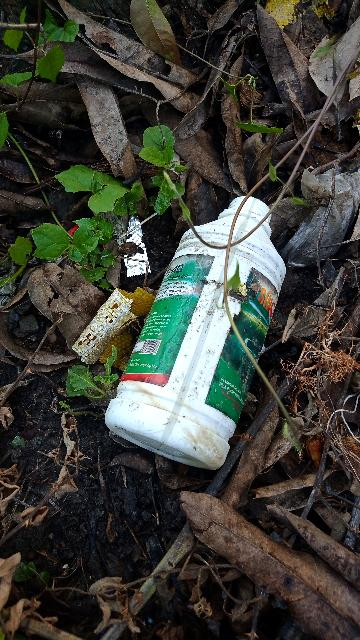bottle: (99, 197, 321, 475)
